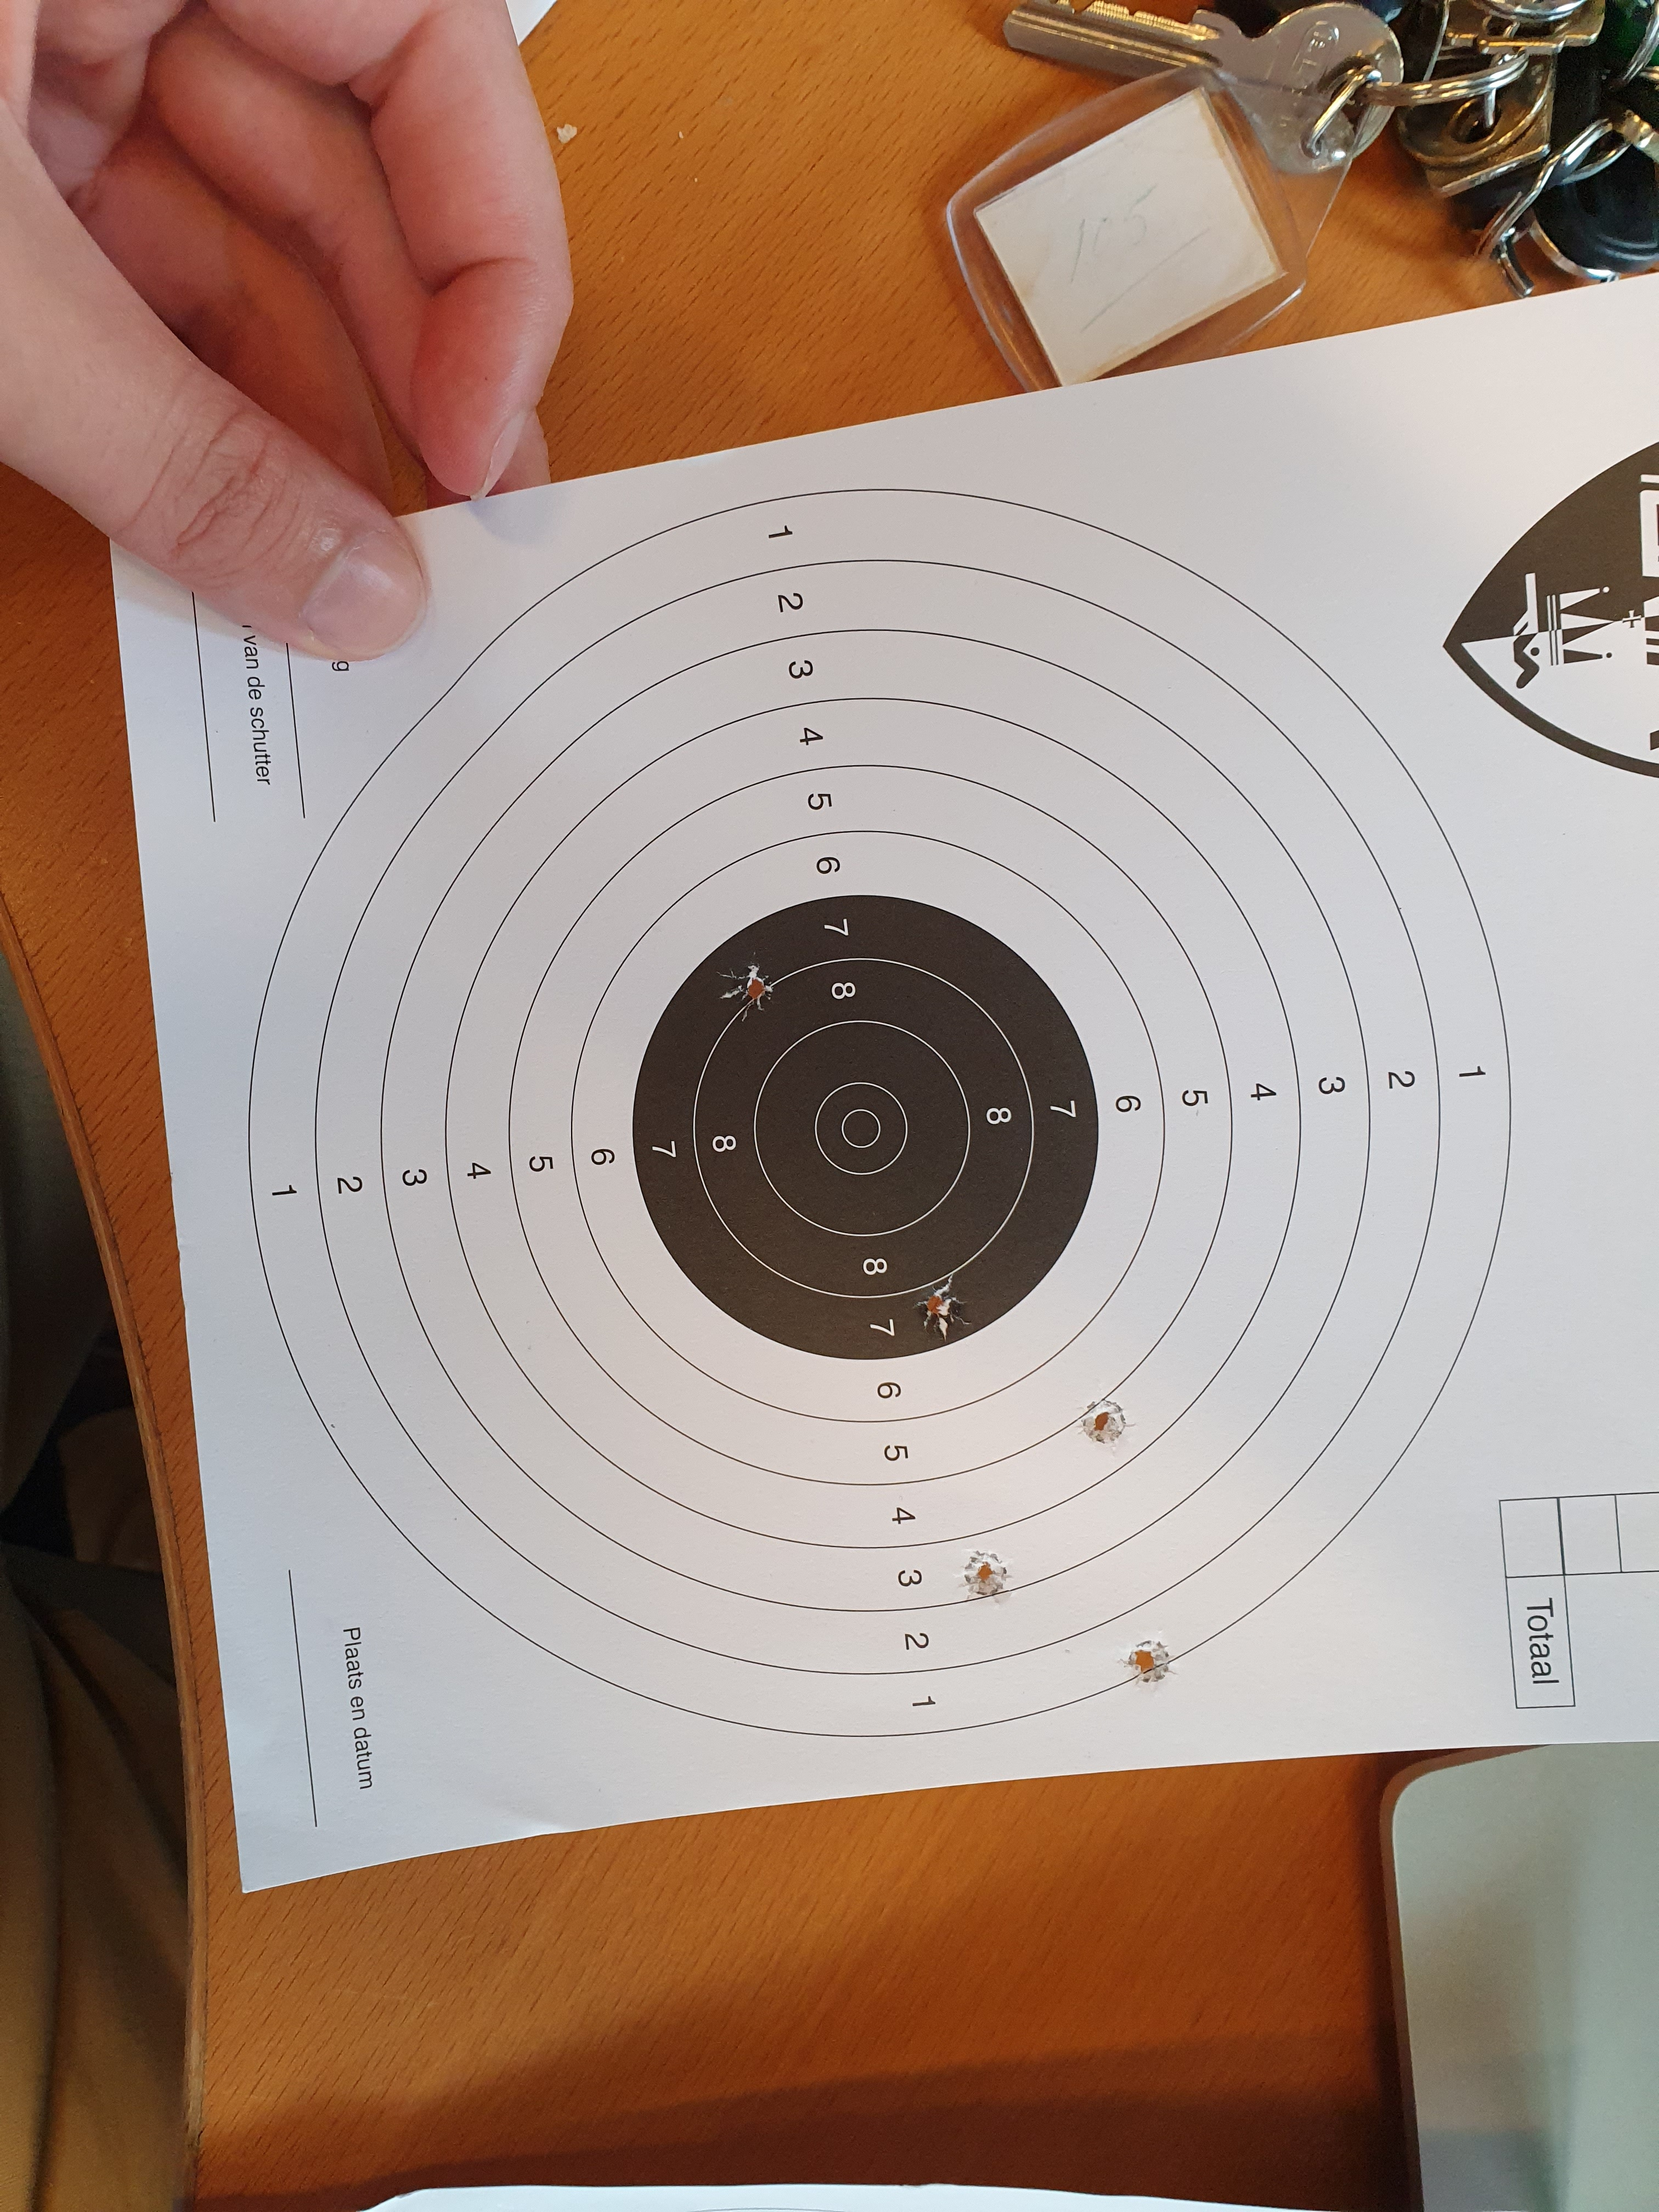center: (633, 894, 1098, 1360)
out: (247, 489, 1513, 1737)
shot: (714, 951, 777, 1021), (913, 1271, 974, 1341), (951, 1545, 1014, 1604), (1075, 1393, 1136, 1449), (1117, 1634, 1180, 1688)
target: (814, 1082, 908, 1176)
